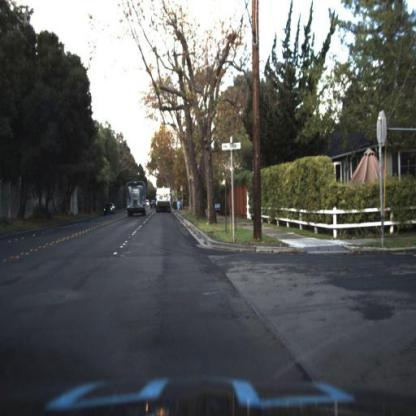car: (103, 199, 117, 218), (103, 202, 118, 218)
truck: (123, 179, 147, 218), (152, 185, 173, 217)
